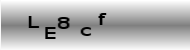8: (56, 16, 70, 30)
E: (44, 26, 56, 40)
L: (27, 15, 39, 28)
c: (80, 26, 92, 37)
f: (97, 11, 106, 26)
